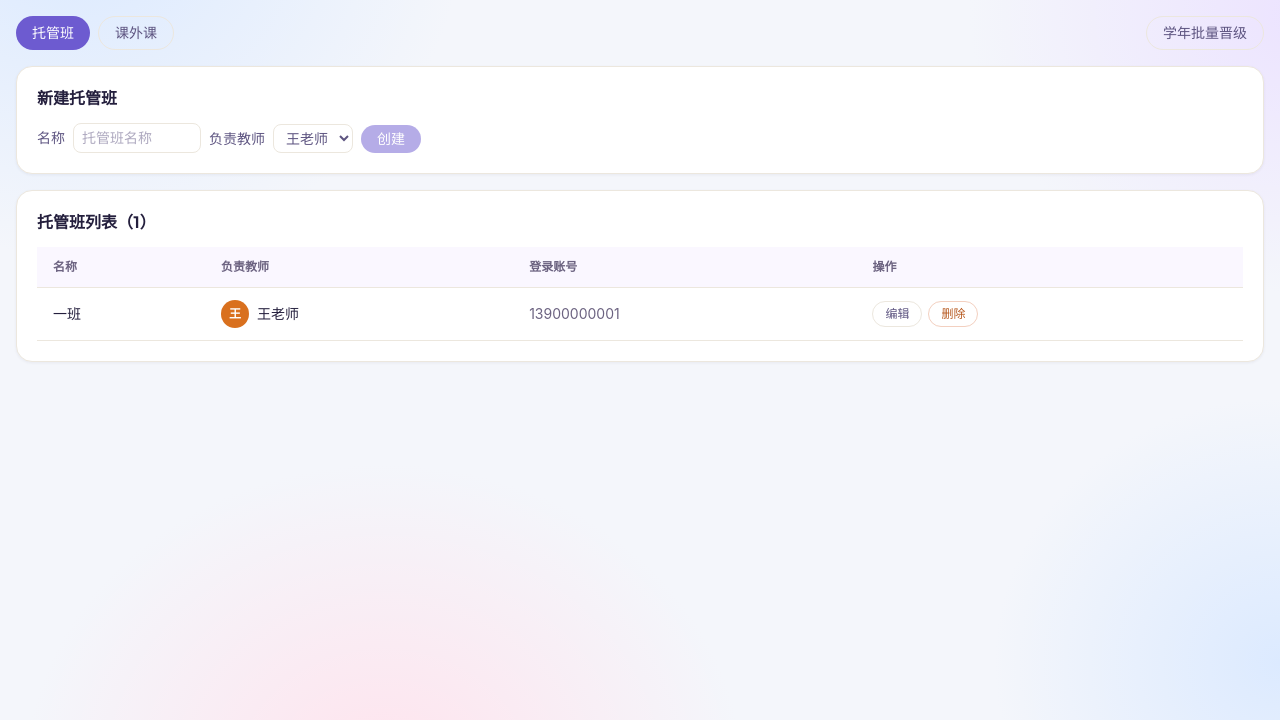
Test: AdminTeachingUnitsModule › requires a valid duration before creating a 课外课
expect the text "一班" is shown: met, box [53,305,81,322]
Click the tab "课外课" at (136, 33), box [98,16,174,50]
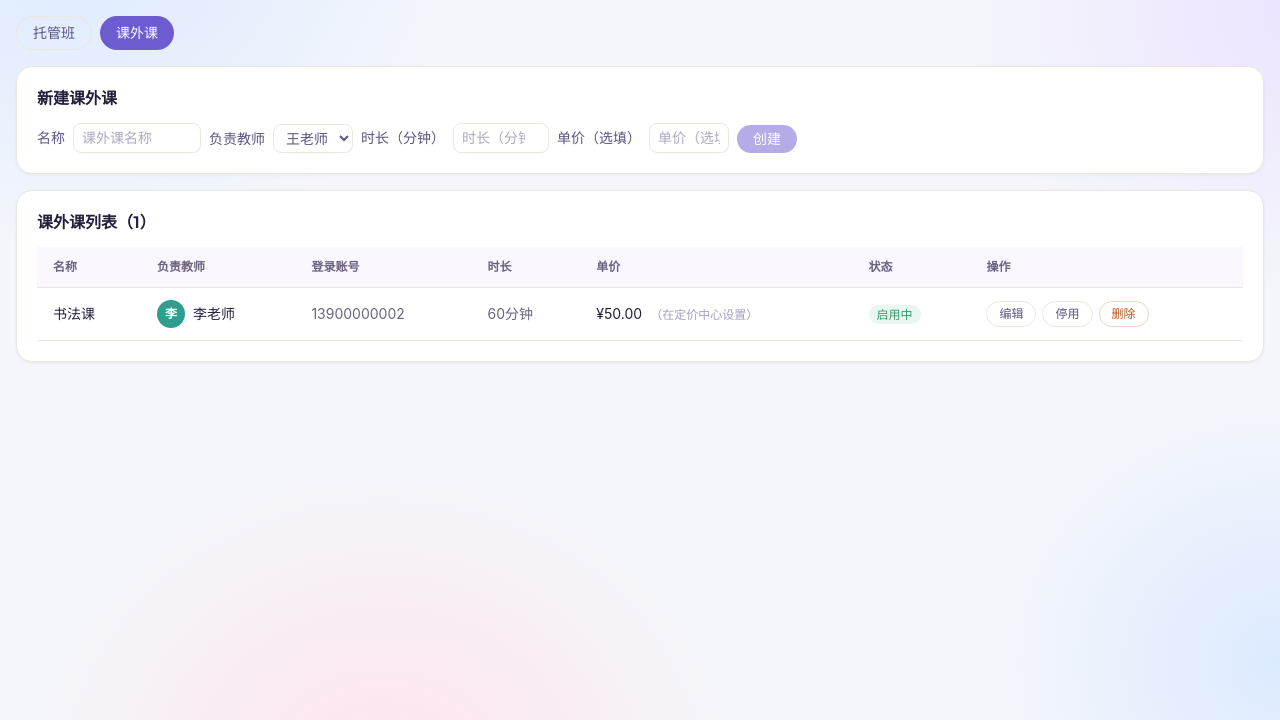
expect the text "书法课" is shown: met, box [53,305,95,322]
Type "数学课" into the field with placeholder "课外课名称" at (137, 138), box [73,123,201,153]
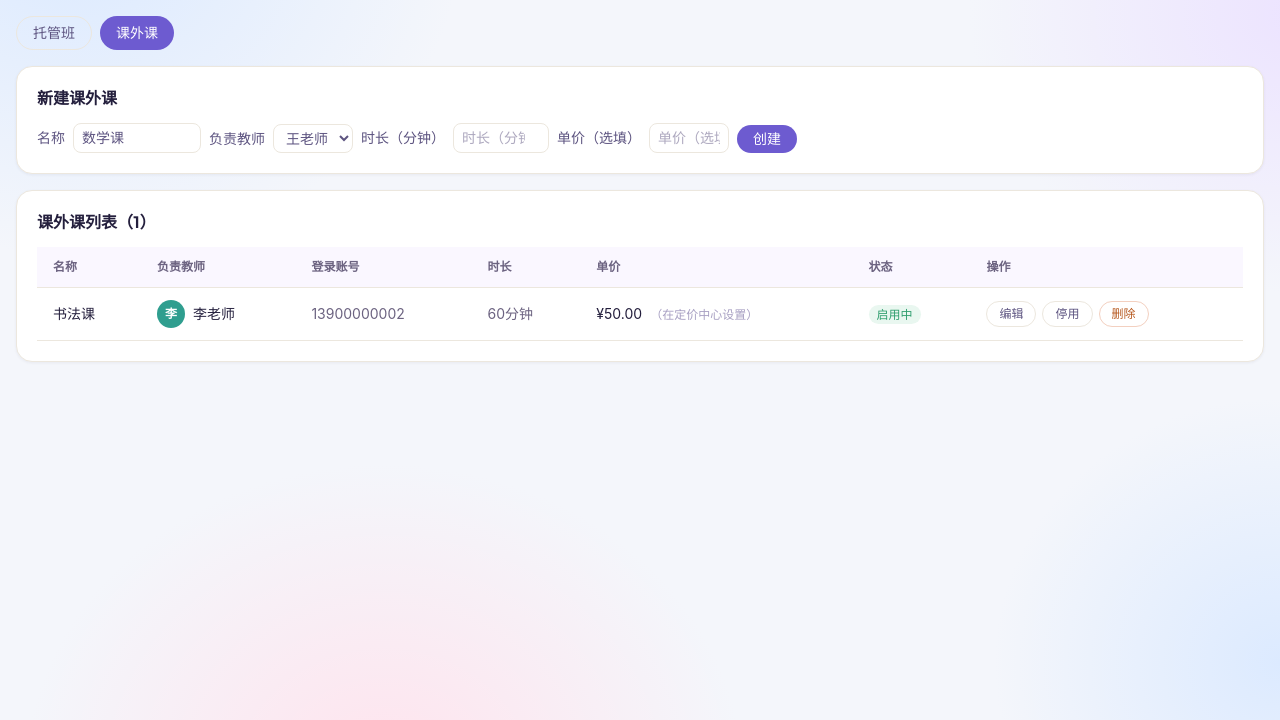
Click the button "创建" at (767, 139), box [737,125,797,153]
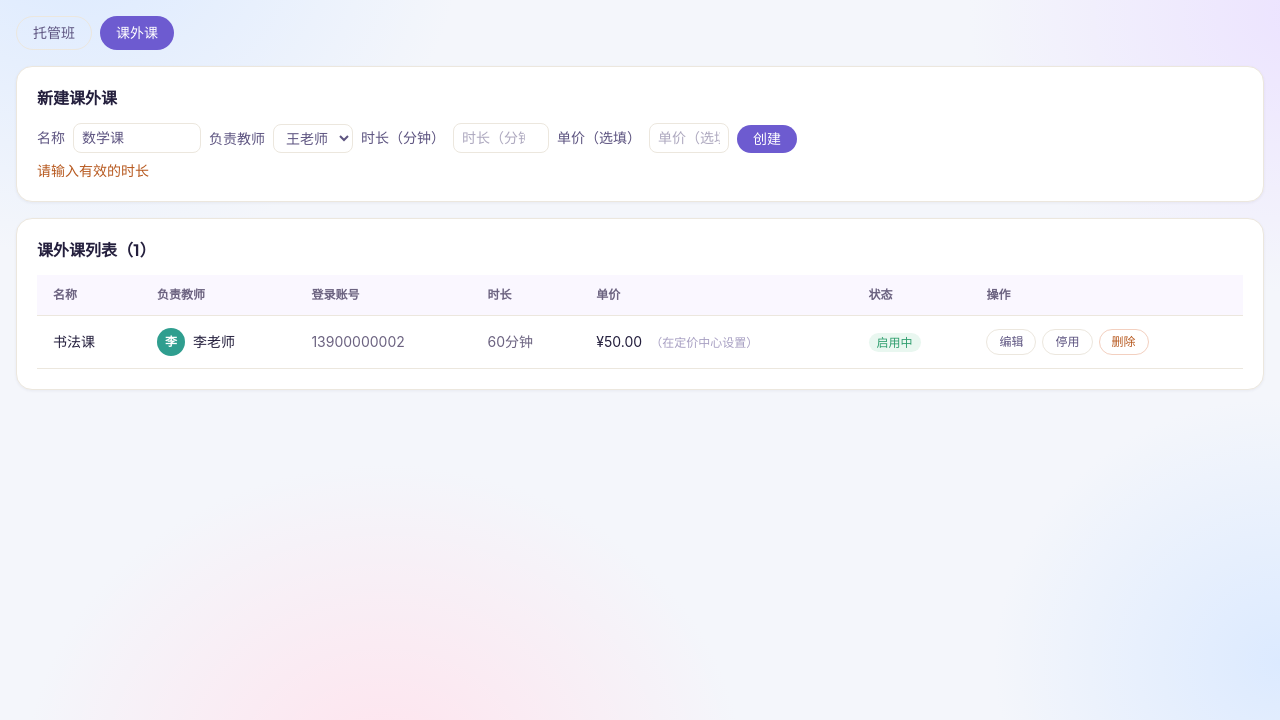
expect the text "请输入有效的时长" is shown: met, box [37,162,149,179]
